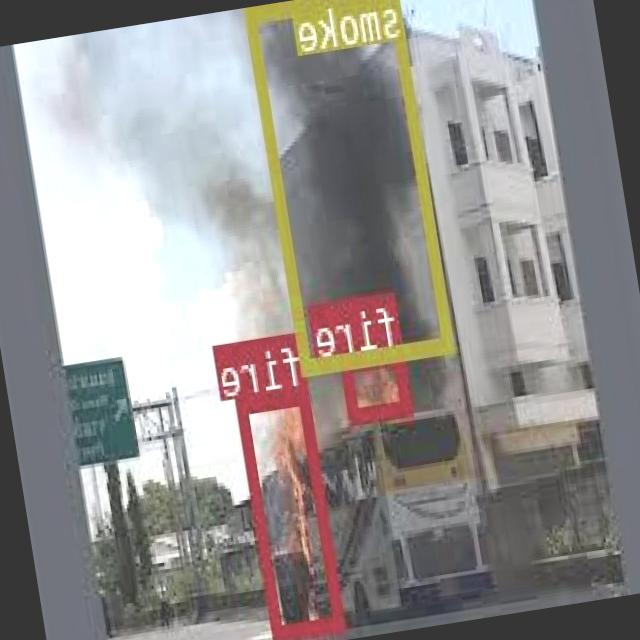fire: (237, 386, 346, 638), (341, 346, 414, 420)
smoke: (247, 0, 456, 370)
